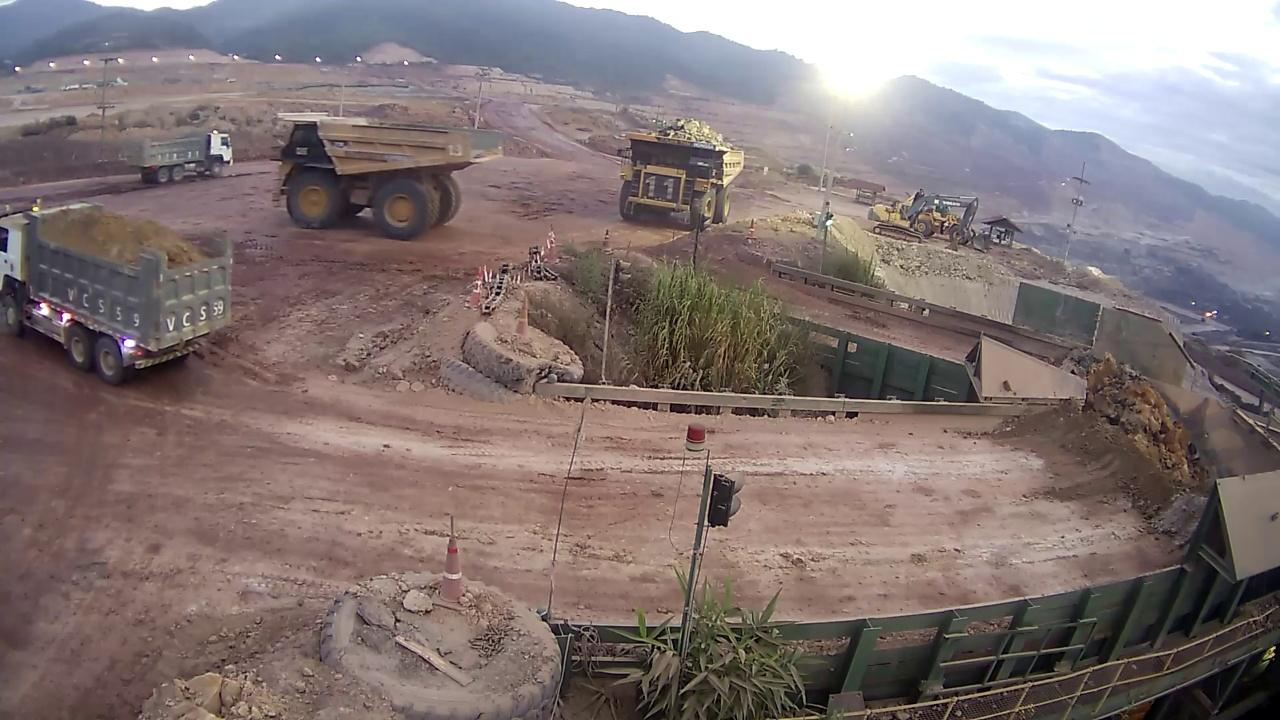empty_load: (356, 113, 498, 138)
front_number: (643, 169, 681, 204)
full_load: (656, 119, 734, 151)
mining_truck: (270, 109, 504, 239), (616, 115, 745, 229)
tail_number: (442, 139, 468, 161)
